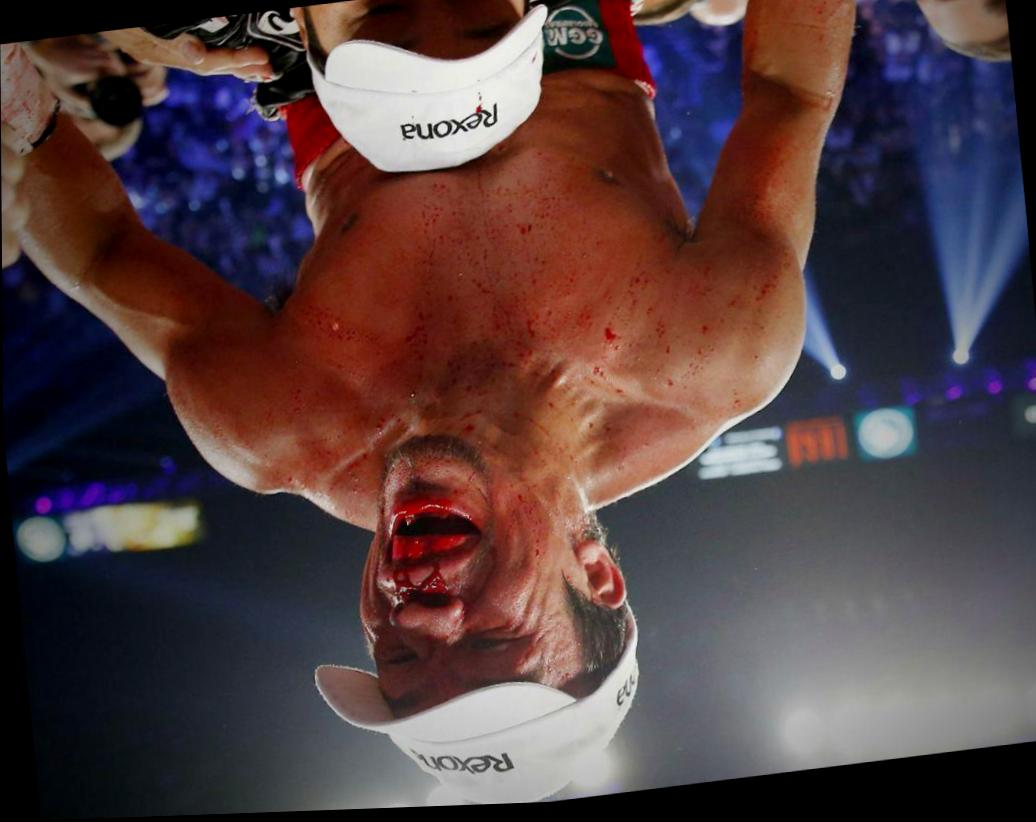Fire: (167, 155, 811, 718)
